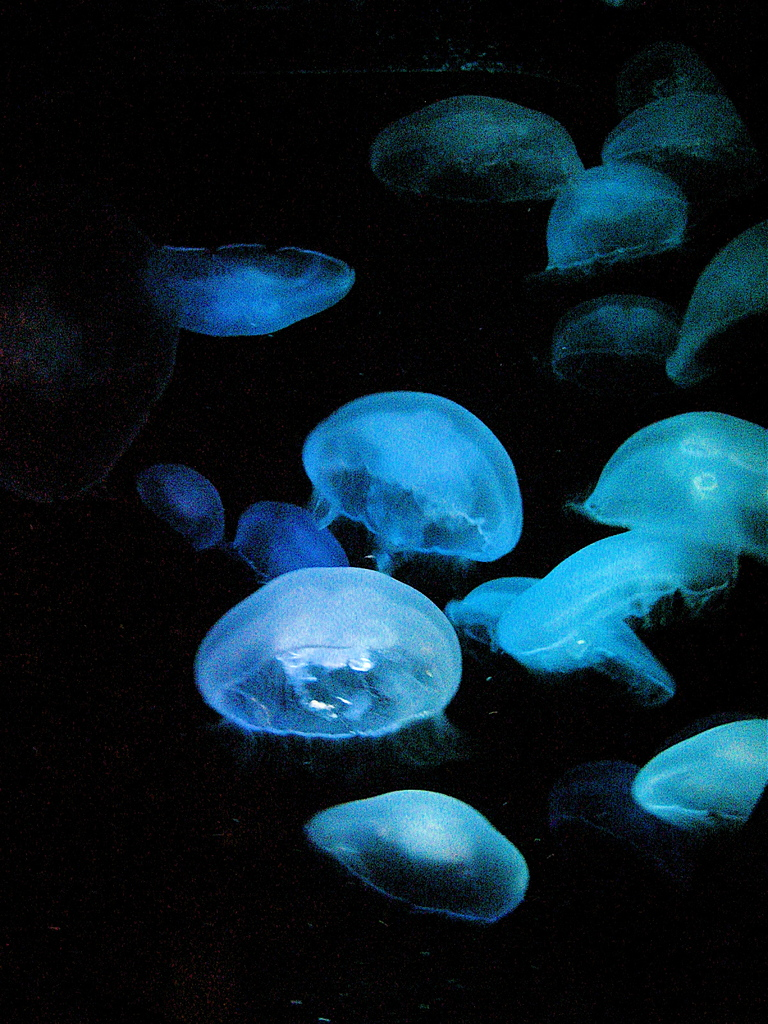Jellyfish: (187, 567, 465, 754), (296, 384, 522, 574), (491, 525, 743, 679), (442, 570, 673, 707), (307, 791, 530, 929), (570, 411, 767, 556), (366, 89, 579, 205), (143, 243, 351, 341), (531, 166, 686, 278), (664, 222, 767, 385), (628, 721, 767, 829), (609, 87, 767, 177), (545, 304, 679, 380), (234, 490, 348, 577), (138, 465, 234, 556)
